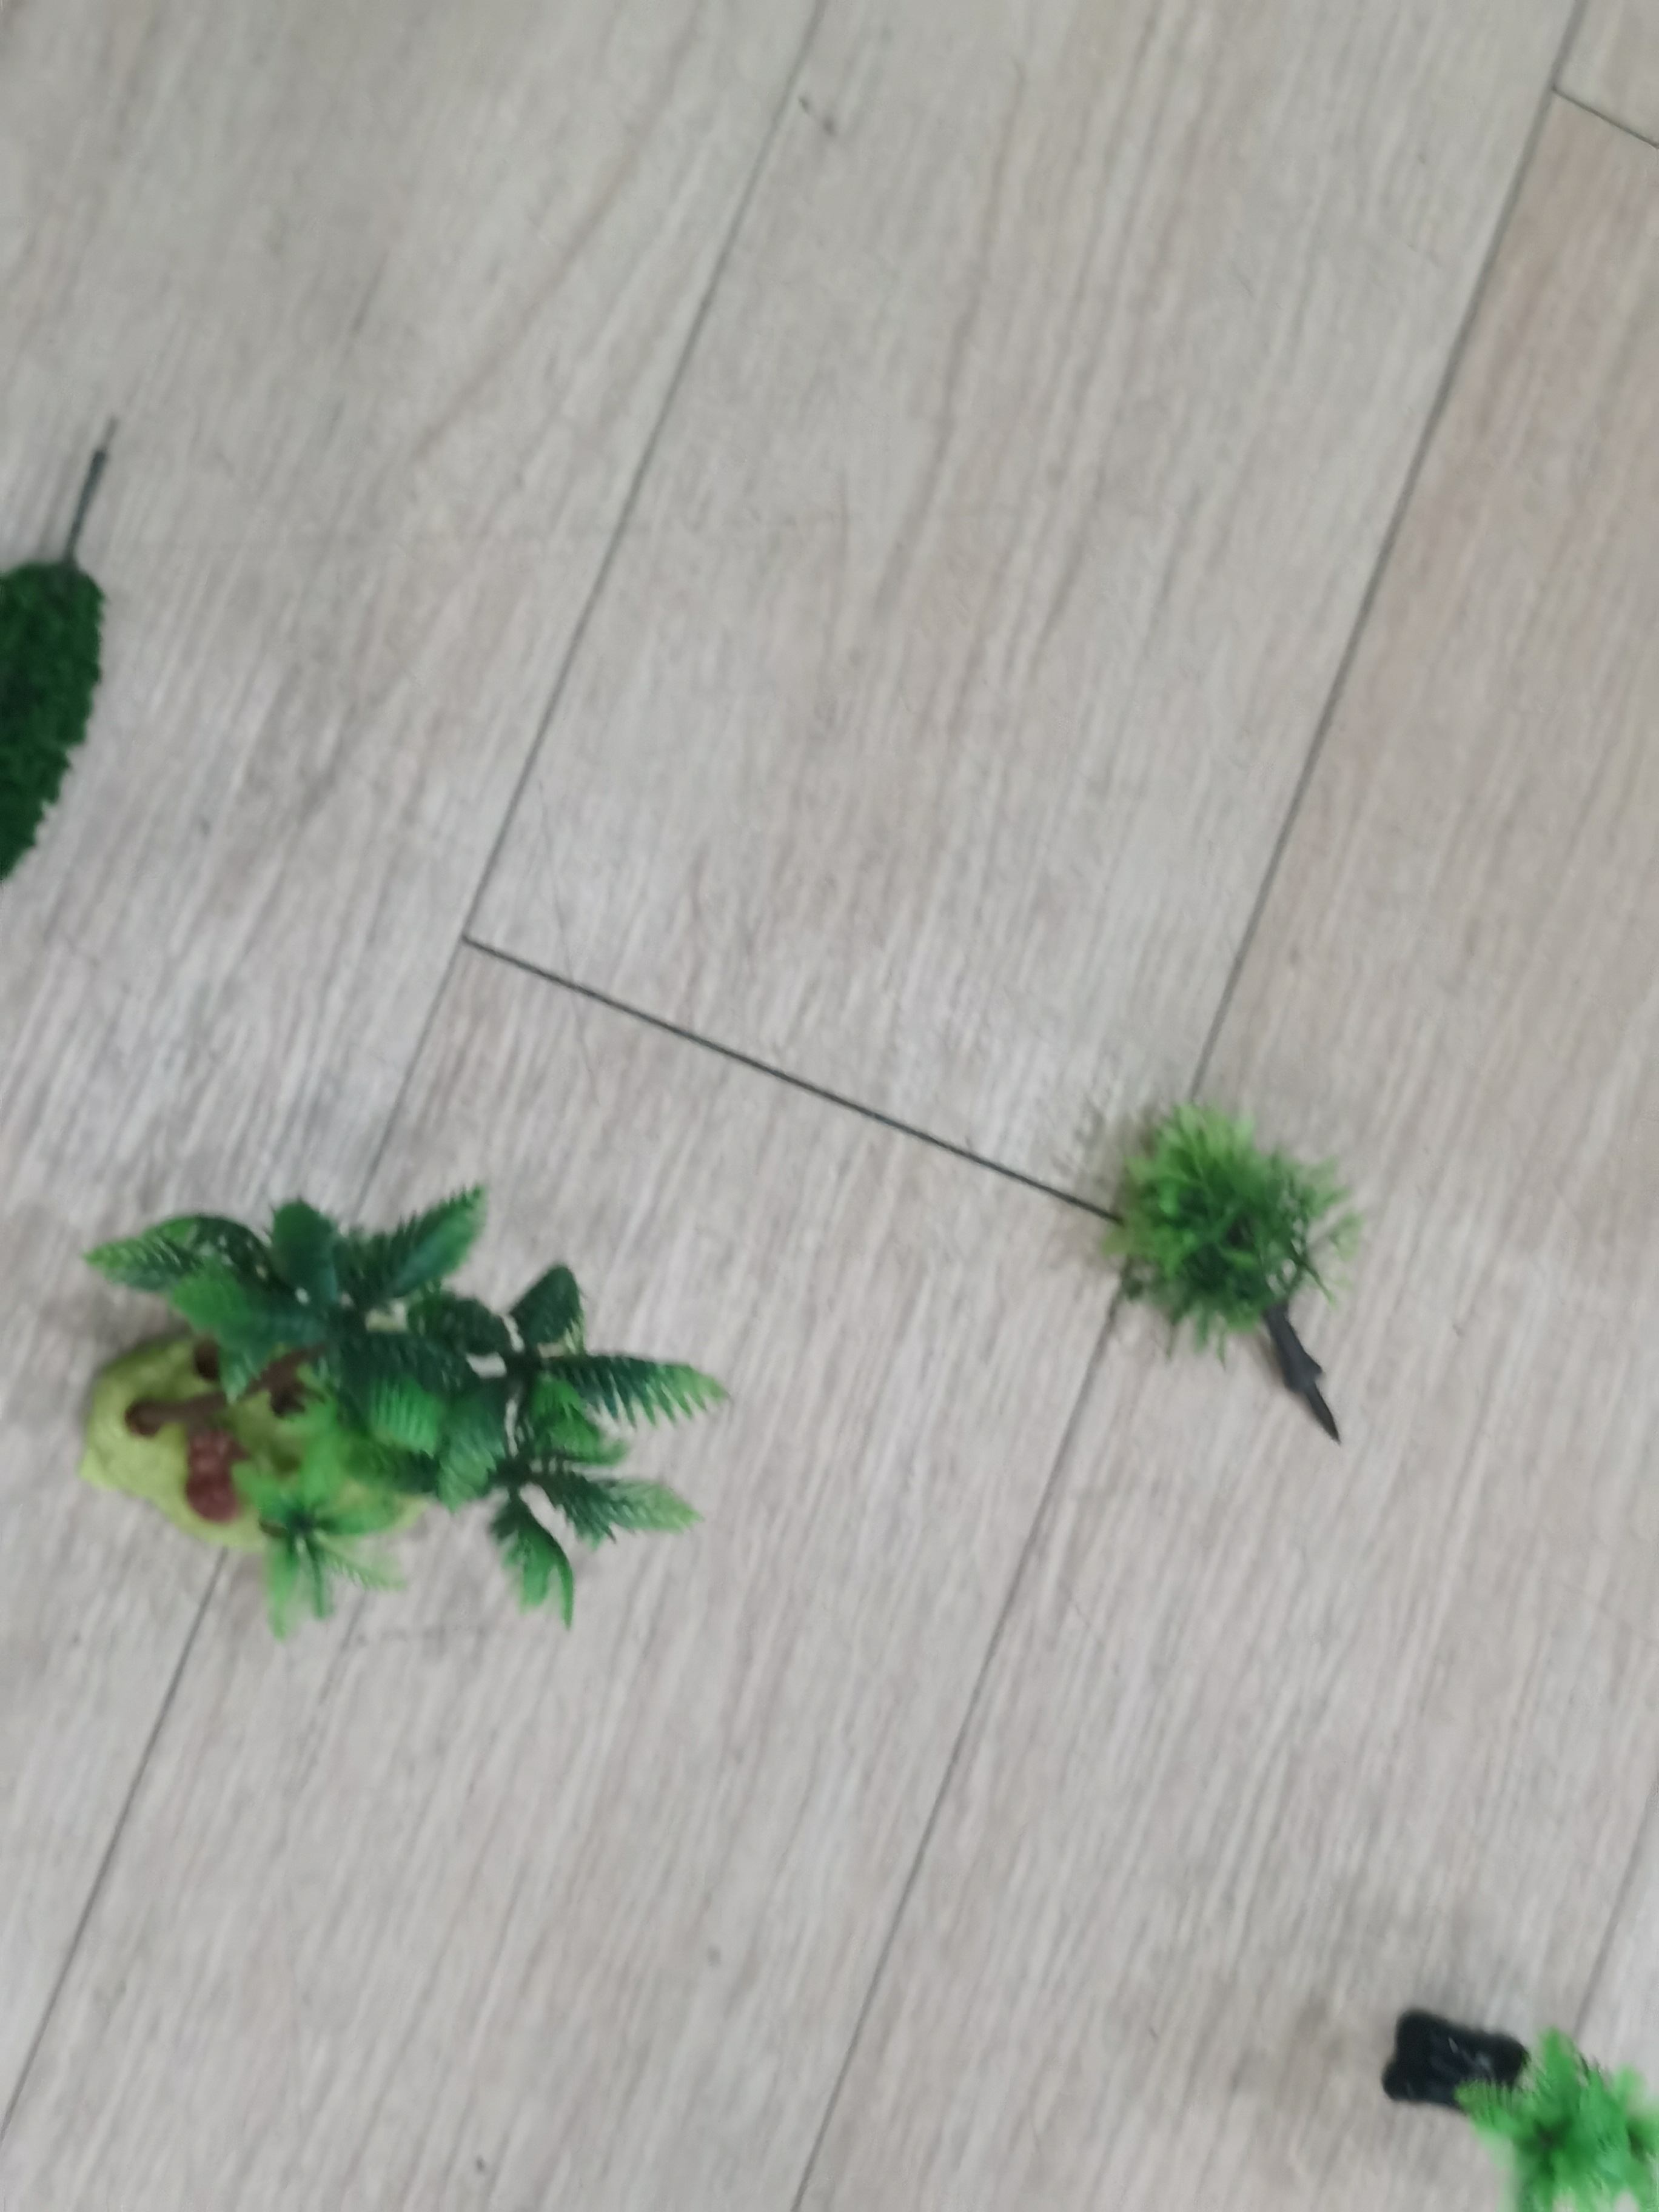corn: (59, 1179, 708, 1642), (1363, 1973, 1659, 2212)
